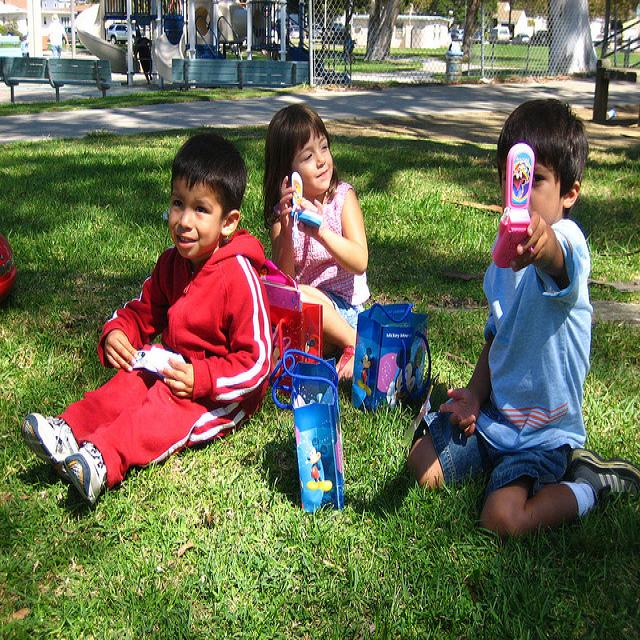Vehicle: (106, 23, 136, 44), (106, 22, 128, 46), (489, 29, 511, 47), (488, 26, 509, 44), (527, 30, 548, 47), (512, 34, 530, 45), (66, 27, 72, 33)
